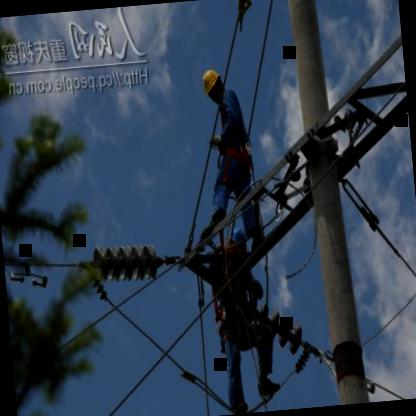helmet: (199, 65, 226, 105), (223, 224, 250, 262)
